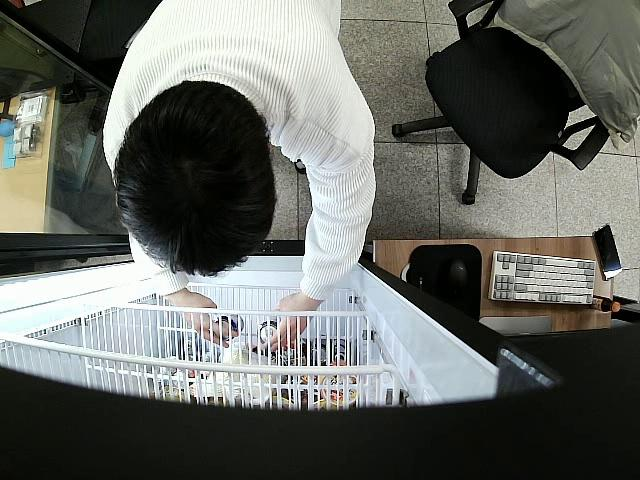00_hand: (179, 291, 238, 349), (261, 293, 314, 354)
14_welchsGrape: (214, 312, 244, 341), (258, 321, 282, 344)
